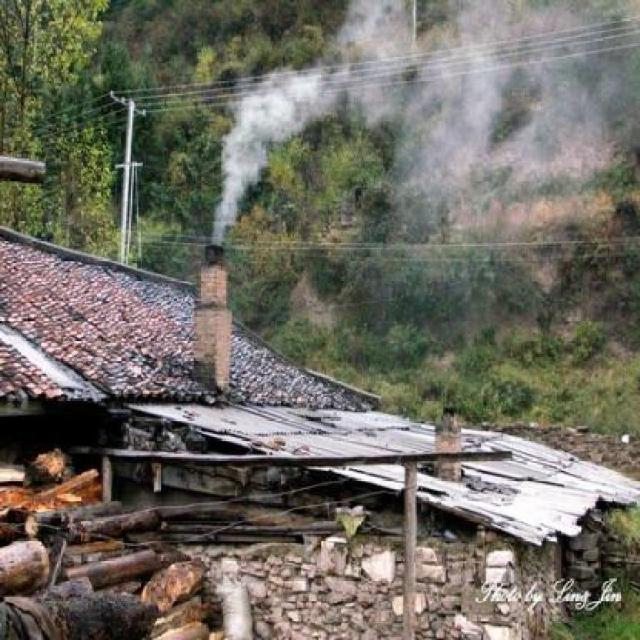Smoke: (212, 0, 640, 246)
